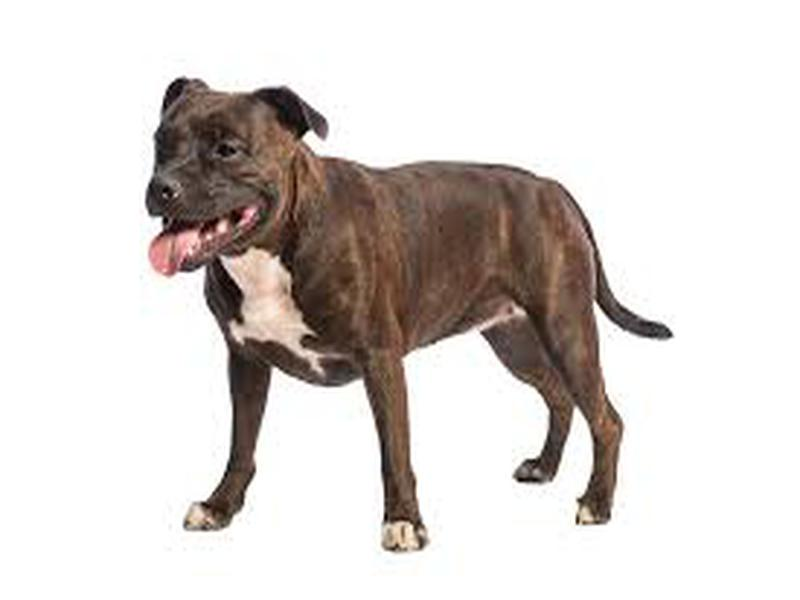dog_stand: (141, 77, 683, 556)
